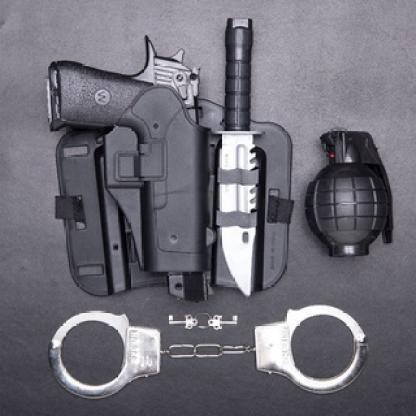Grenade: (303, 120, 397, 266)
Knife: (214, 15, 265, 301)
Pistol: (43, 31, 209, 302)
